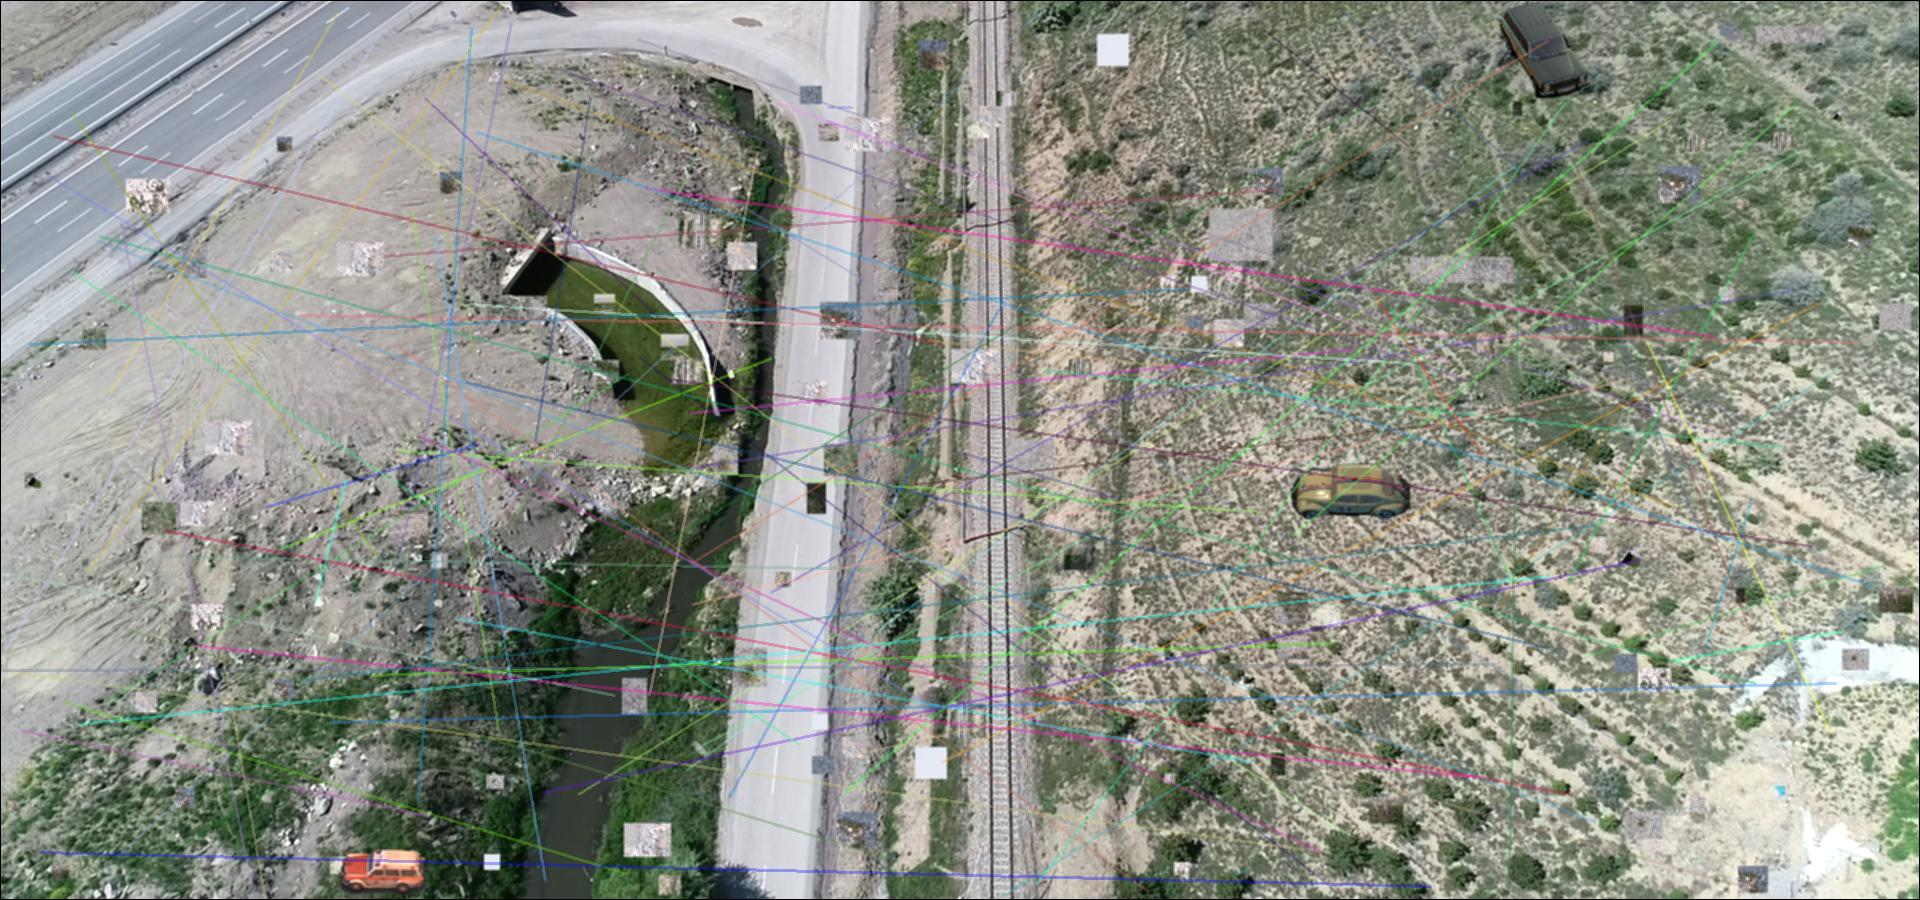arac: (1496, 2, 1591, 98), (1291, 462, 1411, 520), (338, 850, 427, 895)
